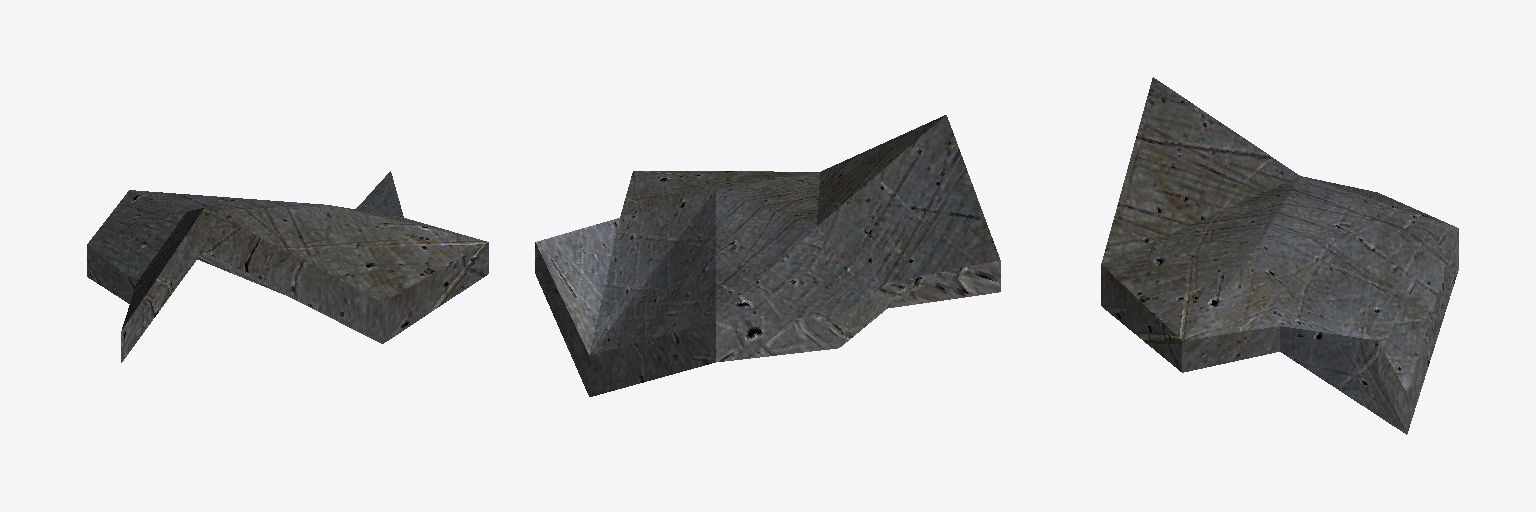
The picture shows the model from 3 angles: view 1: azimuth 30°, elevation 25°; view 2: azimuth 150°, elevation 25°; view 3: azimuth 270°, elevation 25°; orthographic projection.
Parts seen in each view (by area): view 1: Cube.001; view 2: Cube.001; view 3: Cube.001.
Part boxes in pixels (left/top/right/bottom): Cube.001: left=87, top=171, right=488, bottom=362; Cube.001: left=535, top=115, right=1000, bottom=396; Cube.001: left=1101, top=77, right=1458, bottom=434.
Size of the model in its own units: 2.05 by 1.31 by 1.72.
1 materials, 1 textured.